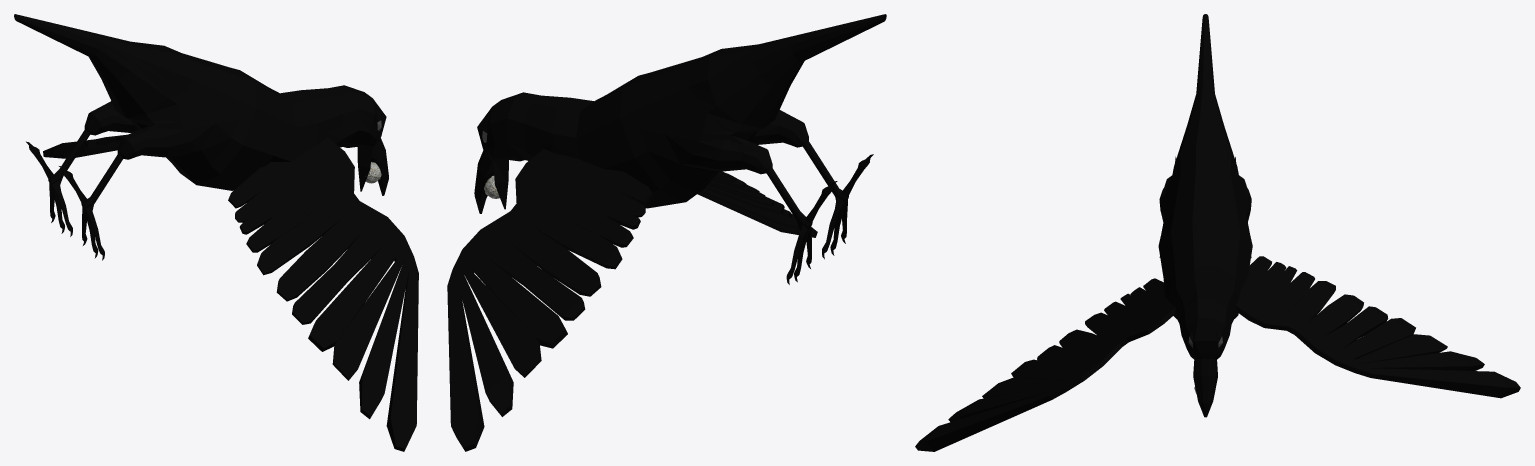
File: crow_up_stone_000010.obj
3 renders of one model, left to right at view 1: azimuth 30°, elevation 25°; view 2: azimuth 150°, elevation 25°; view 3: azimuth 270°, elevation 25°, orthographic. The views are drawn at different scales.
Parts seen in each view (by area): view 1: Cylinder; view 2: Cylinder; view 3: Cylinder.
Boxes of the visible parts, x1,y1,x2,y2 form: Cylinder: (14, 14, 418, 451); Cylinder: (447, 14, 886, 451); Cylinder: (915, 14, 1520, 451).
Size of the model in its own units: 1.34 by 1.29 by 2.11.
